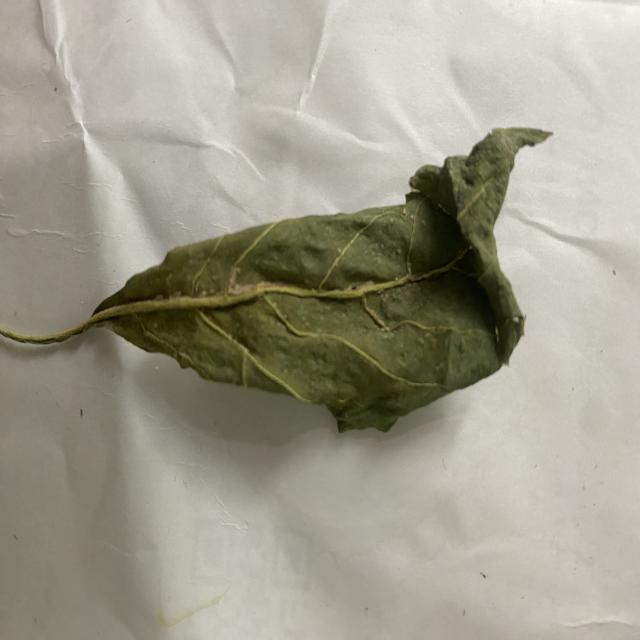Leaf: (98, 127, 552, 433)
